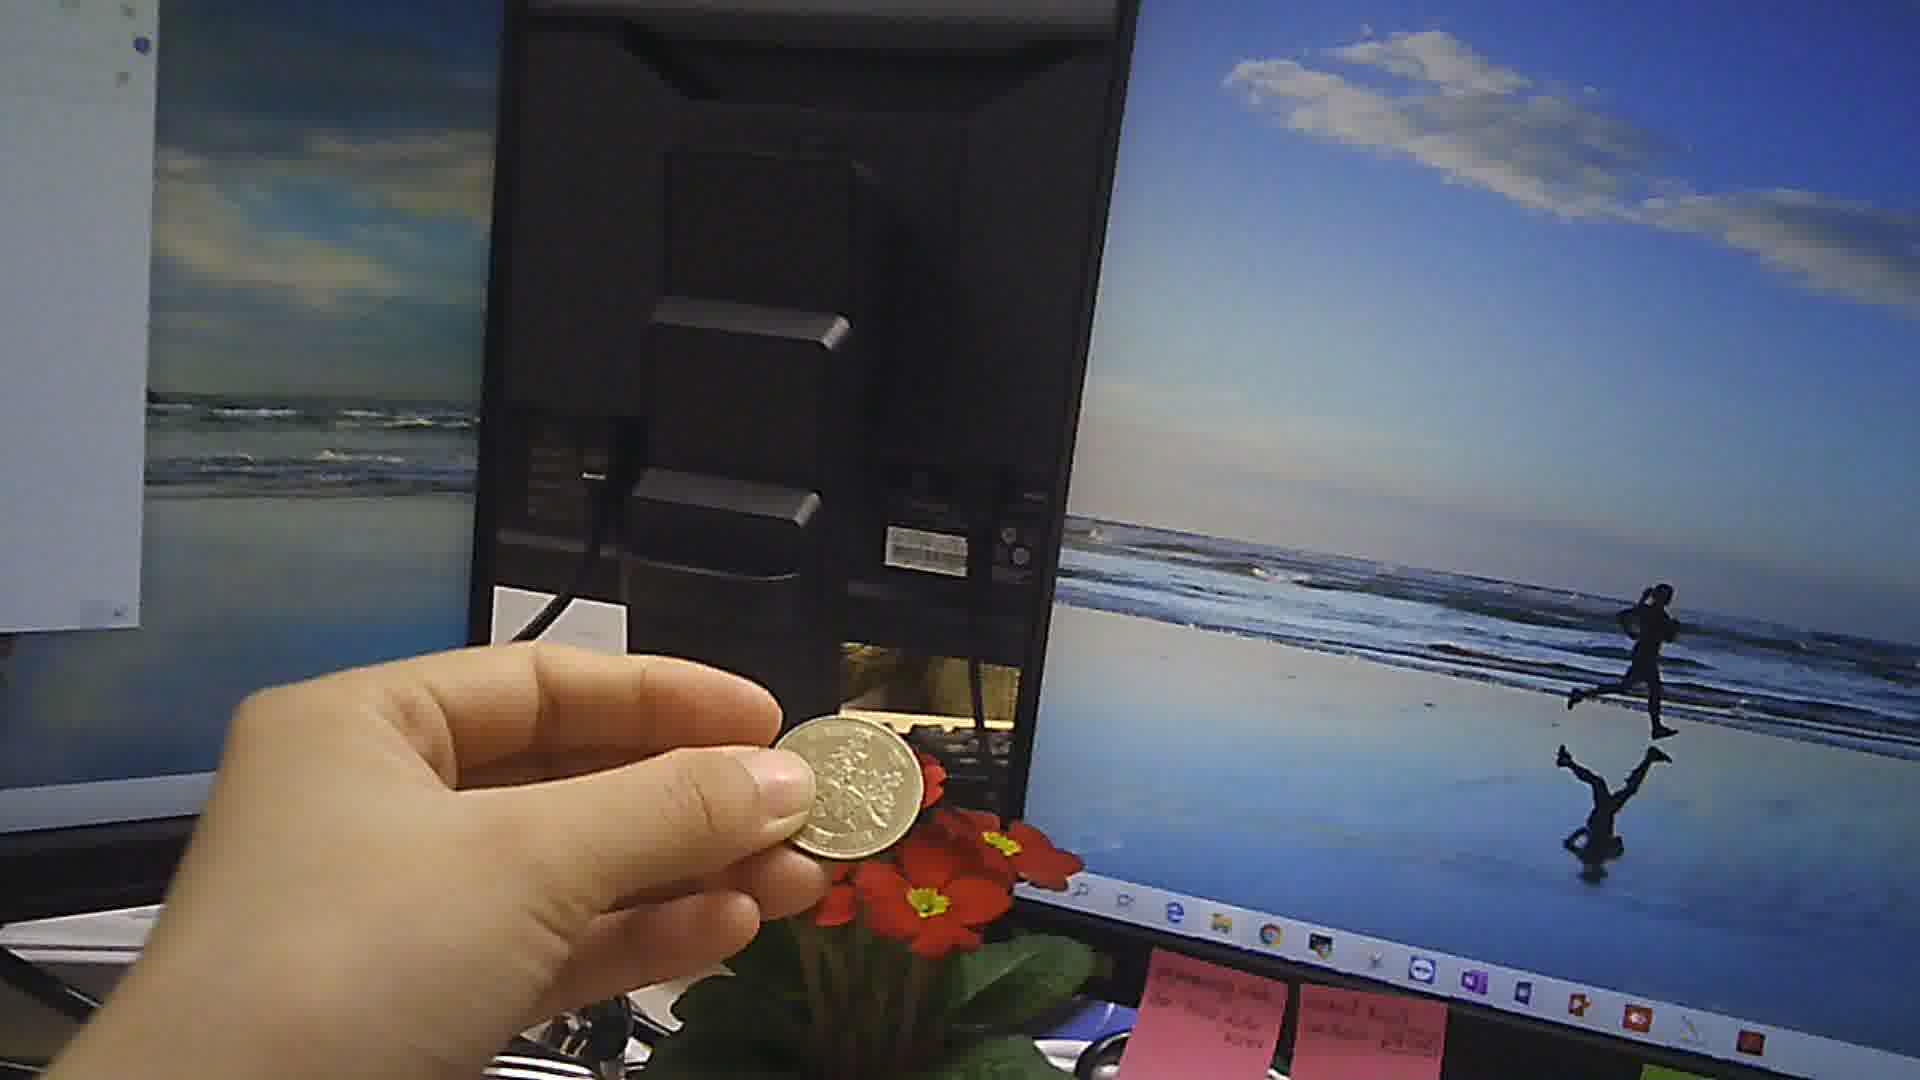500 Yen: (766, 713, 930, 856)
